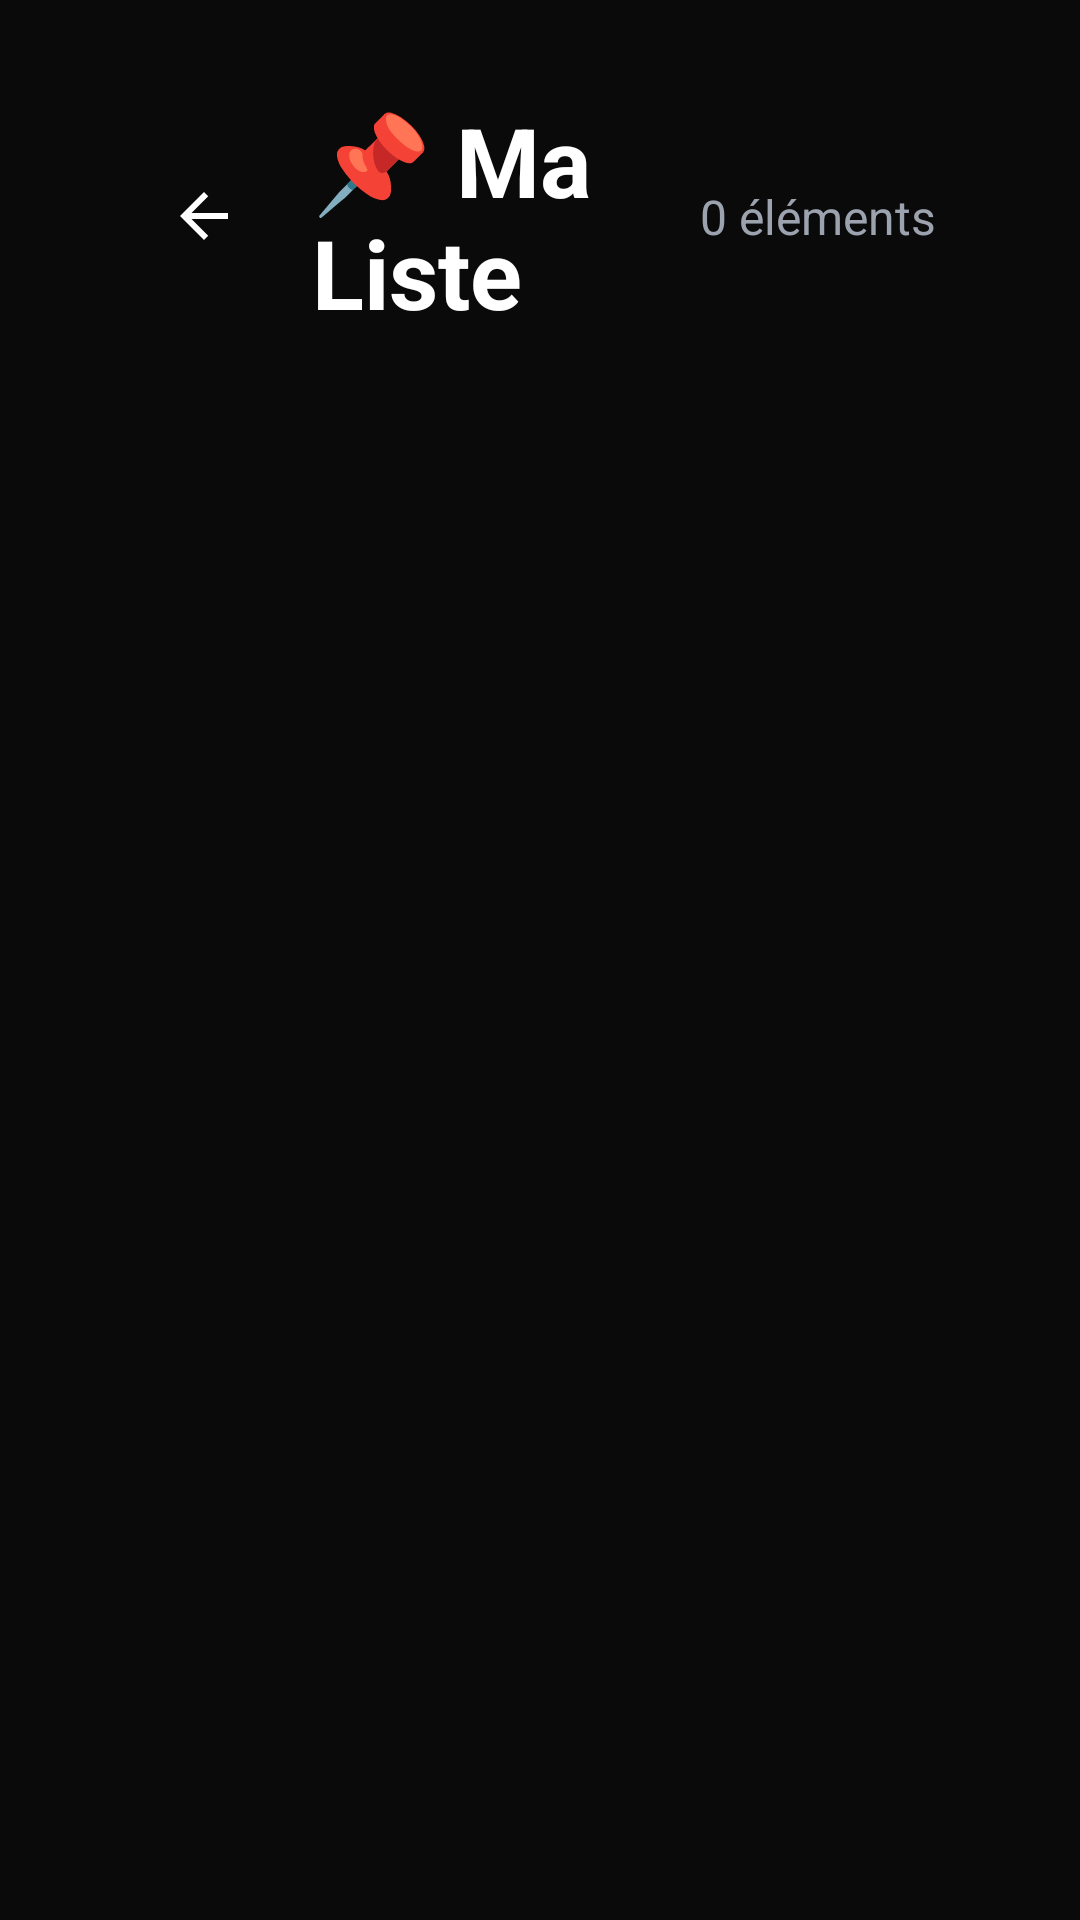

Point at icon controls on the screen. Image size 1080px x 1920px, points as (x=x, y=y).
Retour: (x=204, y=216)
